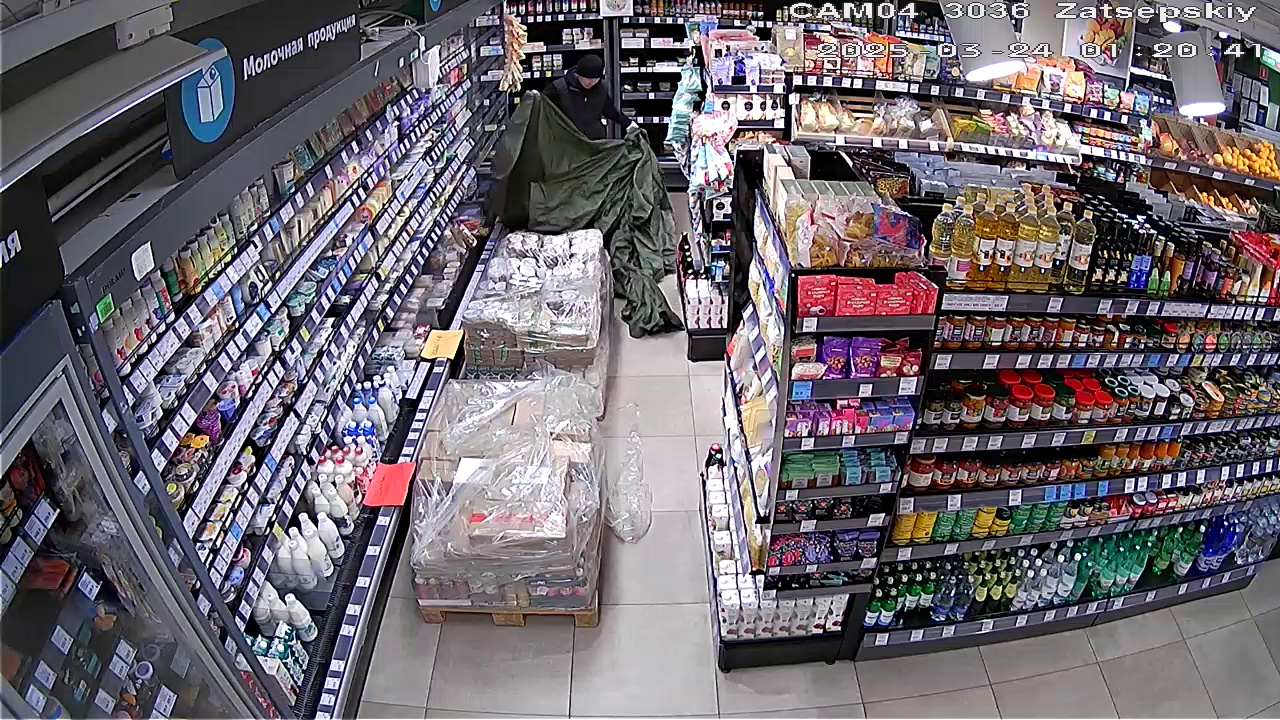Human: (542, 53, 638, 145)
pallet: (415, 374, 595, 623), (462, 226, 611, 392)
